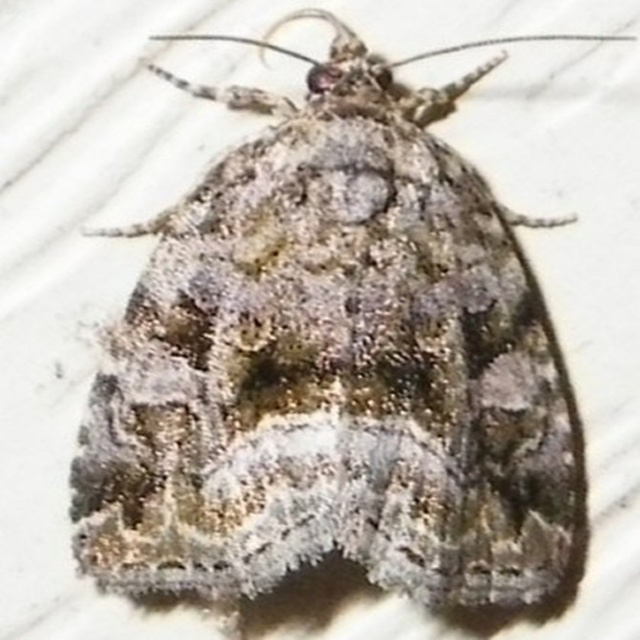Moths and butterflies: (62, 4, 638, 631)
